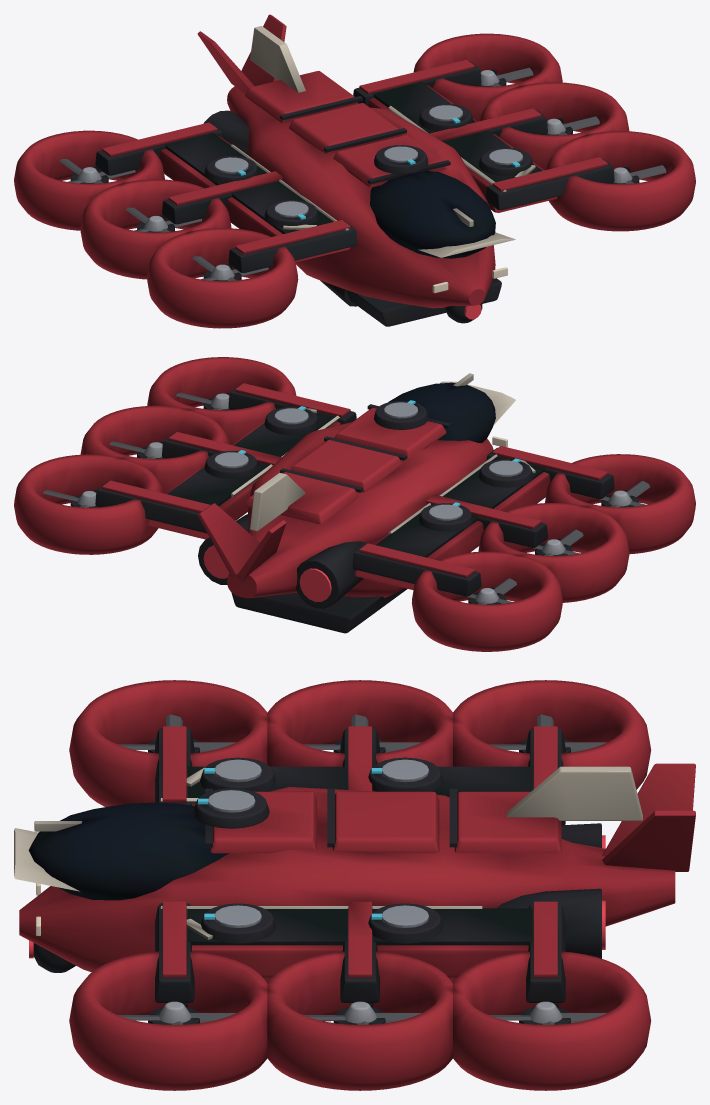
The model's file is ex_gunship_7.glb.
3 views of the same model, one above another, from view 1: azimuth 30°, elevation 25°; view 2: azimuth 150°, elevation 25°; view 3: azimuth 270°, elevation 25° (orthographic). The views are drawn at different scales.
Visible parts, largest first — view 1: body, rotor_5, rotor_3, rotor_4, rotor_2, rotor_0, rotor_1; view 2: body, rotor_3, rotor_5, rotor_4; view 3: body, rotor_1, rotor_0, rotor_2, rotor_4, rotor_3, rotor_5.
Boxes of the visible parts, x1,y1,x2,y2 form: body: (14,14,695,328); rotor_5: (59,159,135,183); rotor_3: (192,256,268,280); rotor_4: (125,207,201,232); rotor_2: (480,67,533,86); rotor_0: (613,165,666,183); rotor_1: (547,116,599,135); body: (14,357,695,651); rotor_3: (576,481,649,507); rotor_5: (444,578,516,604); rotor_4: (511,529,583,555); body: (14,680,695,1090); rotor_1: (303,1001,421,1024); rotor_0: (118,1001,235,1024); rotor_2: (489,1001,606,1024); rotor_4: (303,714,421,752); rotor_3: (118,714,235,752); rotor_5: (489,714,606,752).
Bounding box in the file's own units: 13.43 × 3.88 × 10.76.
